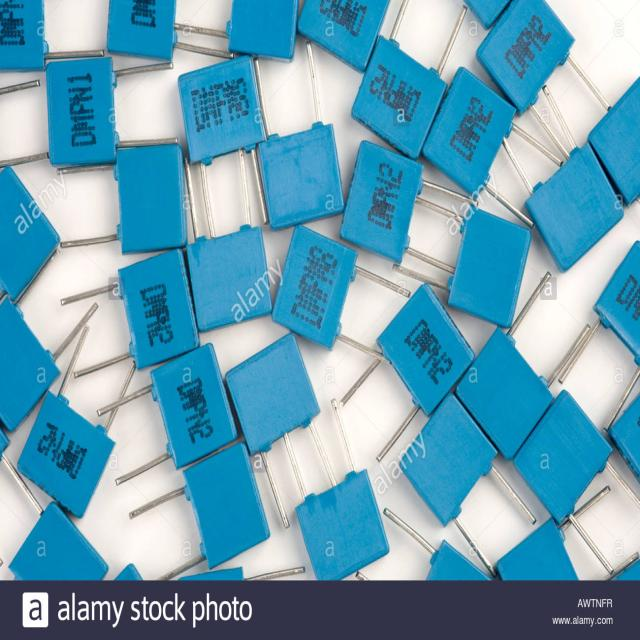capacitor: (401, 394, 536, 576), (458, 272, 590, 458), (340, 283, 474, 460), (19, 324, 136, 517), (424, 65, 563, 227), (503, 85, 623, 270), (476, 0, 609, 159), (227, 334, 335, 527), (97, 342, 237, 487), (130, 443, 270, 582), (284, 398, 390, 580), (271, 225, 410, 363), (351, 0, 469, 157), (341, 140, 476, 273), (392, 198, 531, 326), (0, 249, 97, 429), (61, 250, 198, 376), (254, 43, 343, 230), (178, 57, 267, 235), (559, 240, 640, 431), (186, 156, 273, 332), (60, 143, 187, 256), (46, 59, 178, 163), (494, 485, 613, 580), (107, 0, 234, 61), (0, 0, 104, 70)
